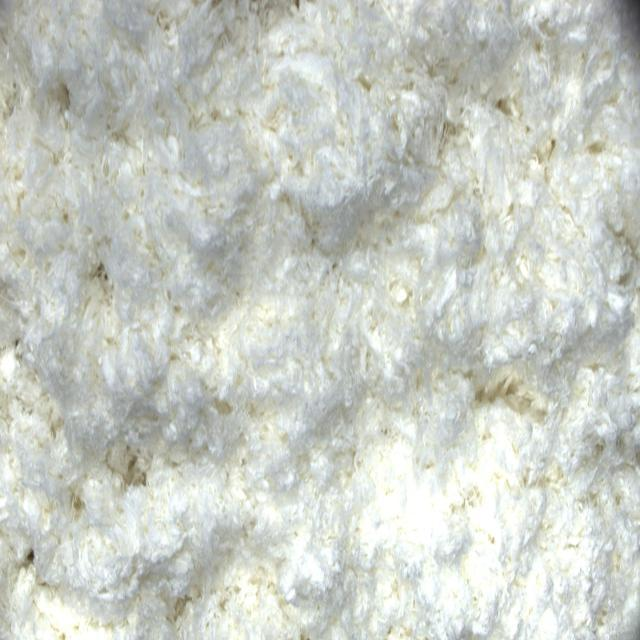dust: (19, 547, 39, 565)
